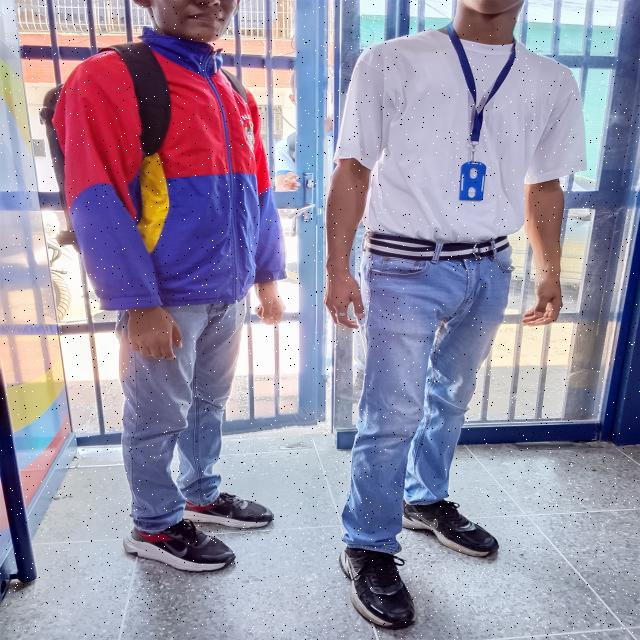carnet: (459, 161, 486, 201)
chaqueta_unefa: (51, 26, 286, 310)
